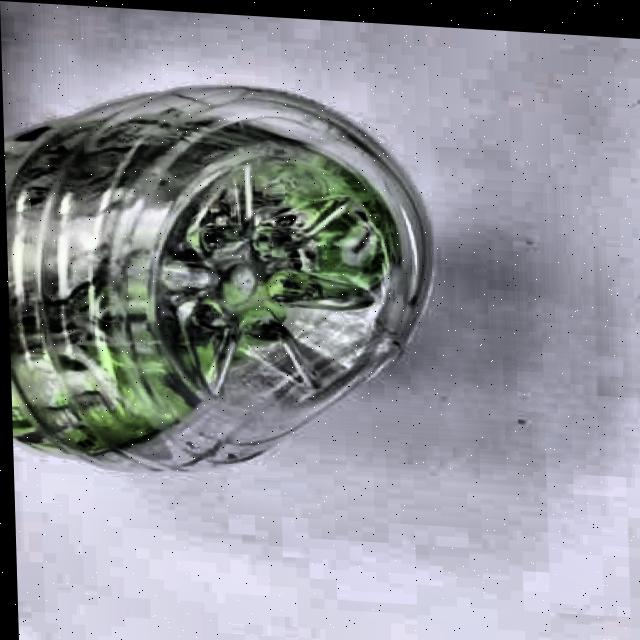plastic: (2, 71, 446, 491)
